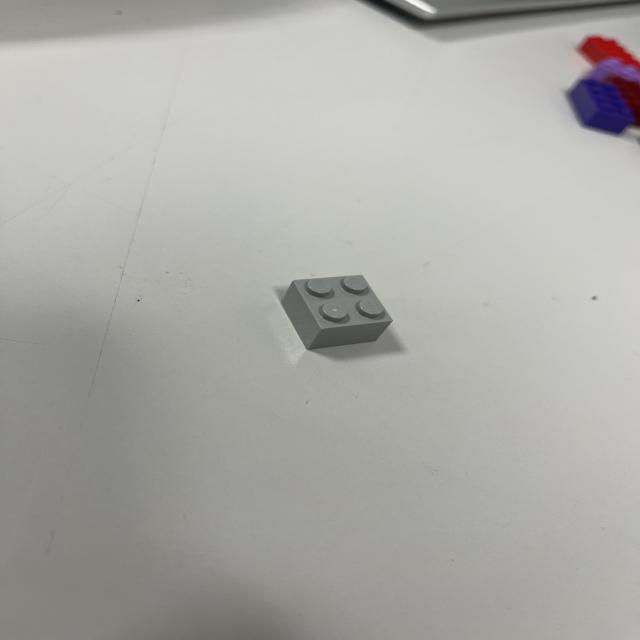C2x2x1: (279, 274, 397, 356)
